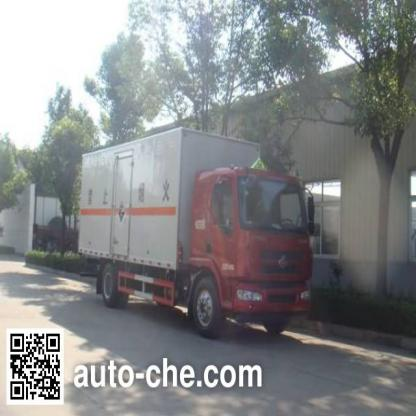normal-truck: (73, 121, 316, 351)
